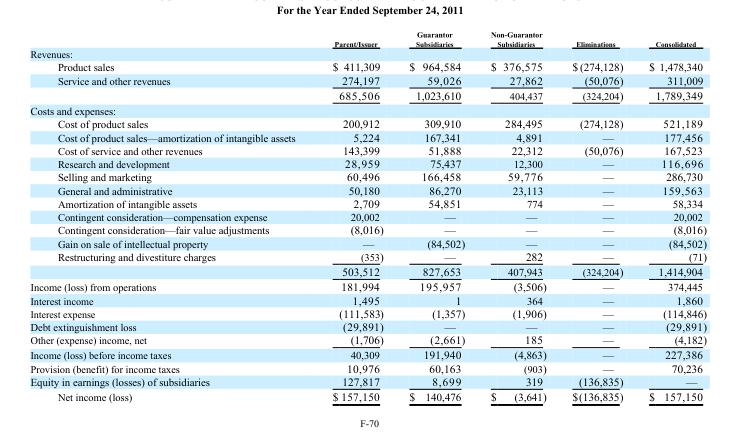table: (29, 29, 705, 402)
table column: (29, 29, 313, 402), (313, 29, 395, 402), (395, 29, 477, 402), (477, 29, 558, 402), (558, 29, 635, 402), (635, 29, 705, 402)
table column header: (29, 29, 705, 47)
table projected row header: (29, 102, 705, 116), (29, 47, 705, 59)
table row: (29, 29, 705, 47), (29, 87, 705, 102), (29, 263, 705, 278), (29, 278, 705, 293), (29, 332, 705, 347), (29, 59, 705, 73), (29, 73, 705, 87), (29, 102, 705, 116), (29, 116, 705, 130), (29, 169, 705, 183), (29, 222, 705, 236), (29, 249, 705, 263), (29, 347, 705, 361), (29, 374, 705, 388), (29, 388, 705, 402), (29, 130, 705, 143), (29, 143, 705, 156), (29, 156, 705, 169), (29, 183, 705, 196), (29, 196, 705, 209), (29, 209, 705, 222), (29, 236, 705, 249), (29, 293, 705, 306), (29, 306, 705, 319), (29, 319, 705, 332), (29, 361, 705, 374), (29, 47, 705, 59)
